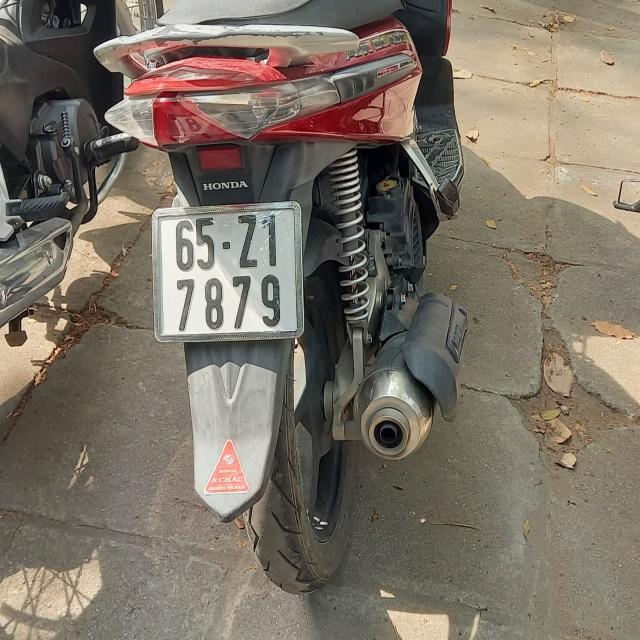1: (262, 214, 279, 265)
5: (194, 217, 215, 271)
6: (174, 220, 196, 272)
7: (232, 274, 251, 328), (177, 278, 195, 333)
8: (204, 279, 225, 329)
9: (262, 274, 281, 328)
Z: (240, 216, 258, 266)
